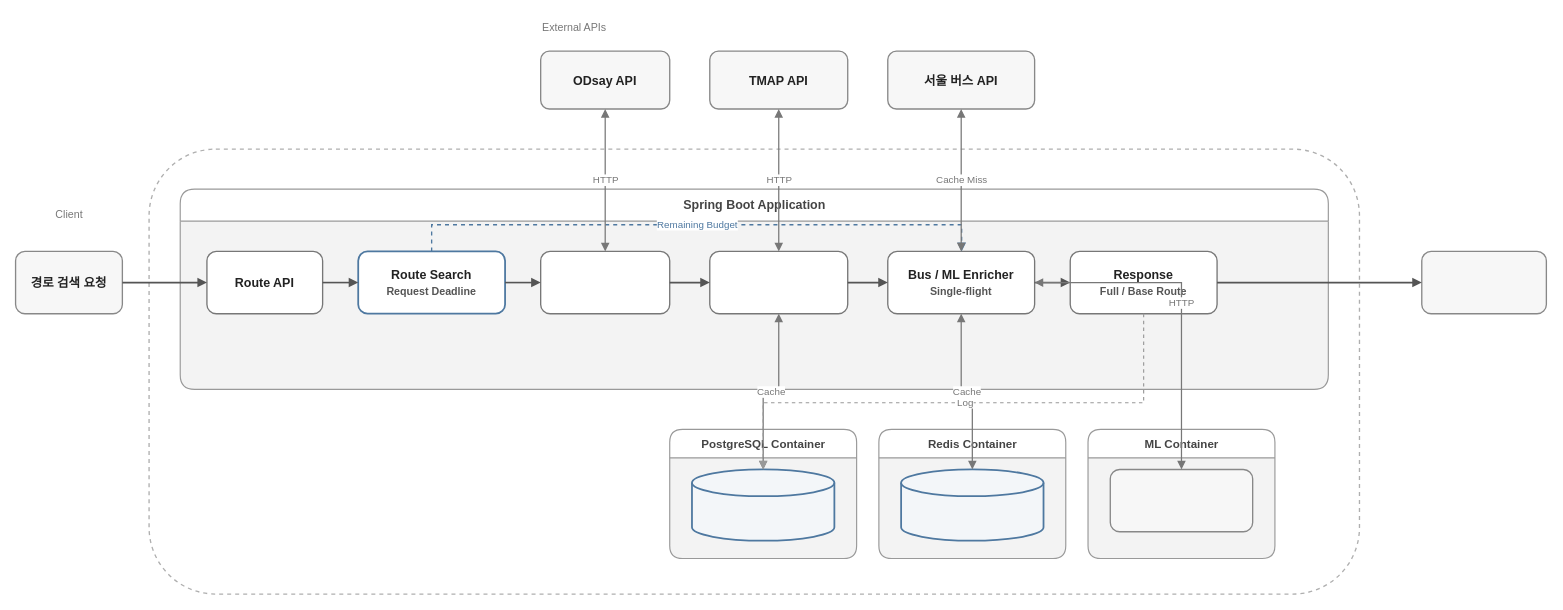
Some shapes in this 1563 by 610 pixel diagram are drawn without their labels. The shapes that lost their labels are listed below. From the top down, each one's centre as x and y in pixels, then its label:
At (605,282): "Base Route".
At (778,282): "Walk Enricher Bounded Pool".
At (1484,282): "경로 검색 응답".
At (763,504): "PostgreSQL Walk Cache · Search Log".
At (972,504): "Redis Bus Realtime Cache".
At (1181,500): "FastAPI ML Arrival Prediction".
